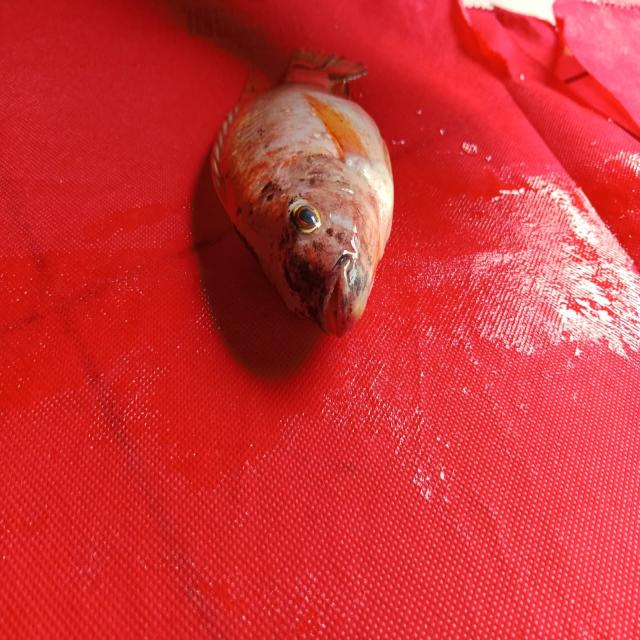ikan: (203, 42, 418, 382)
